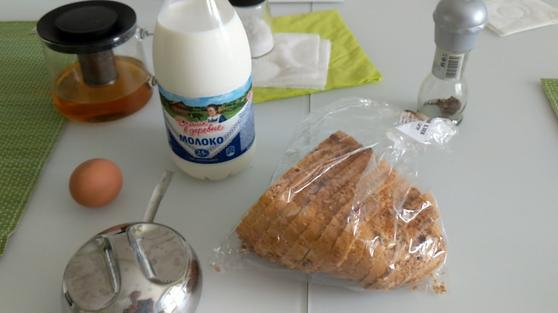egg: (68, 153, 125, 208)
milk: (151, 1, 263, 183)
white_bread: (239, 122, 447, 287)
